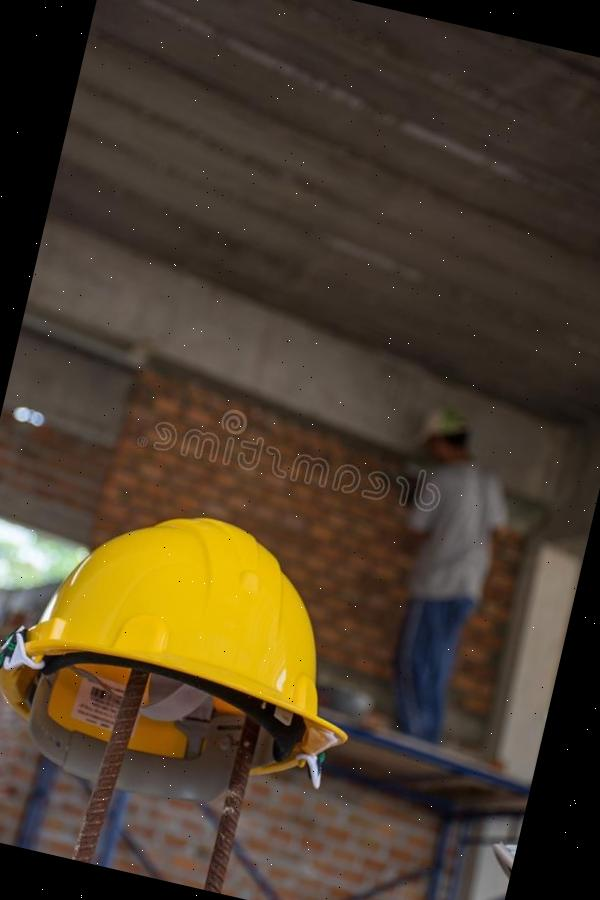helmet: (0, 478, 389, 836)
